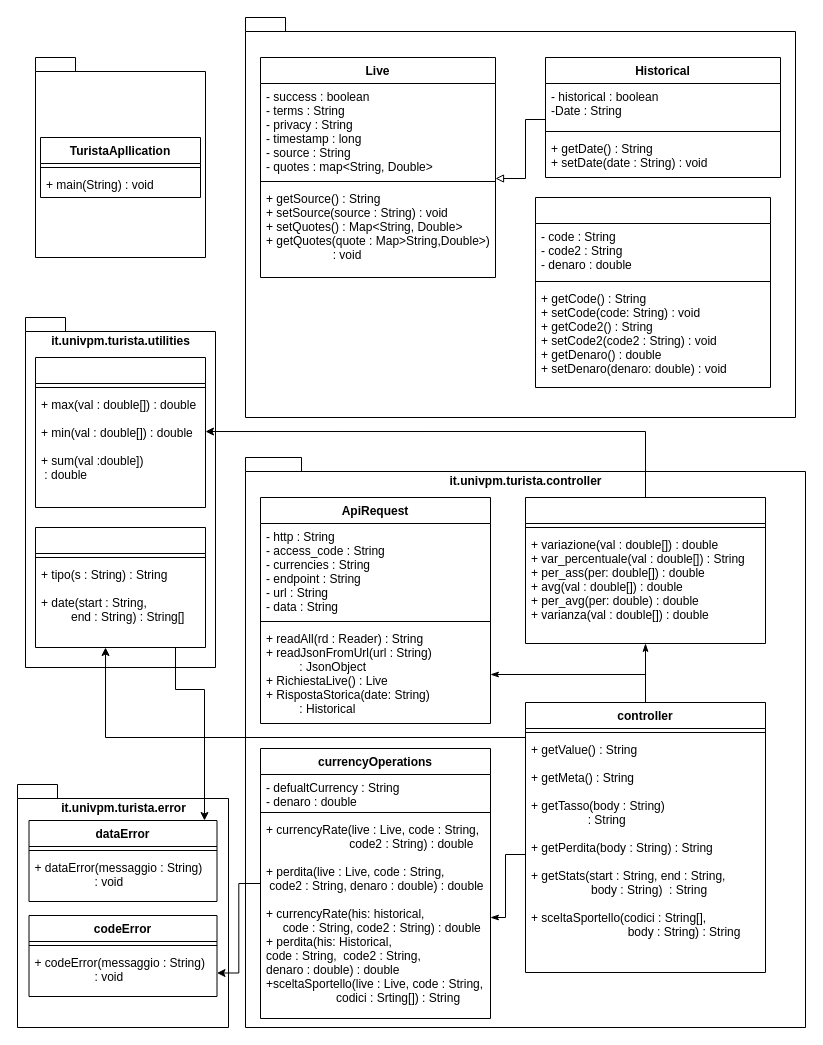
This 823x1045 diagram has some shape labels left out. The box of each missing label's shape, as (x1, y1, x2, y2) in pixels:
it.univpm.turista: (34, 56, 206, 258)
it.univpm.turista.model: (244, 16, 796, 418)
operations: (34, 356, 206, 508)
Request: (534, 196, 770, 388)
Statistics: (524, 496, 766, 644)
util: (34, 526, 206, 648)
